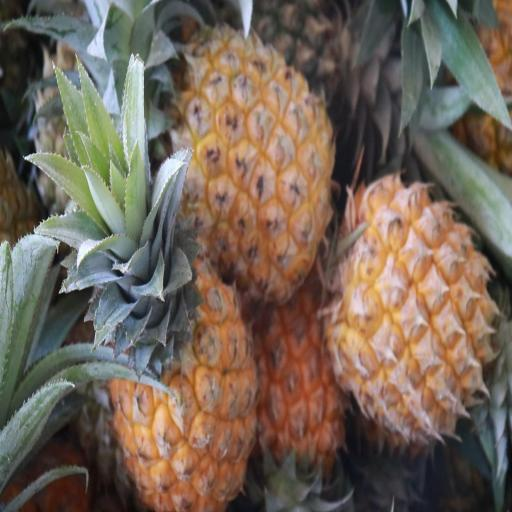Pineapple - v8 v1: (172, 20, 336, 293), (117, 195, 257, 508), (330, 174, 492, 442), (257, 295, 352, 512)
